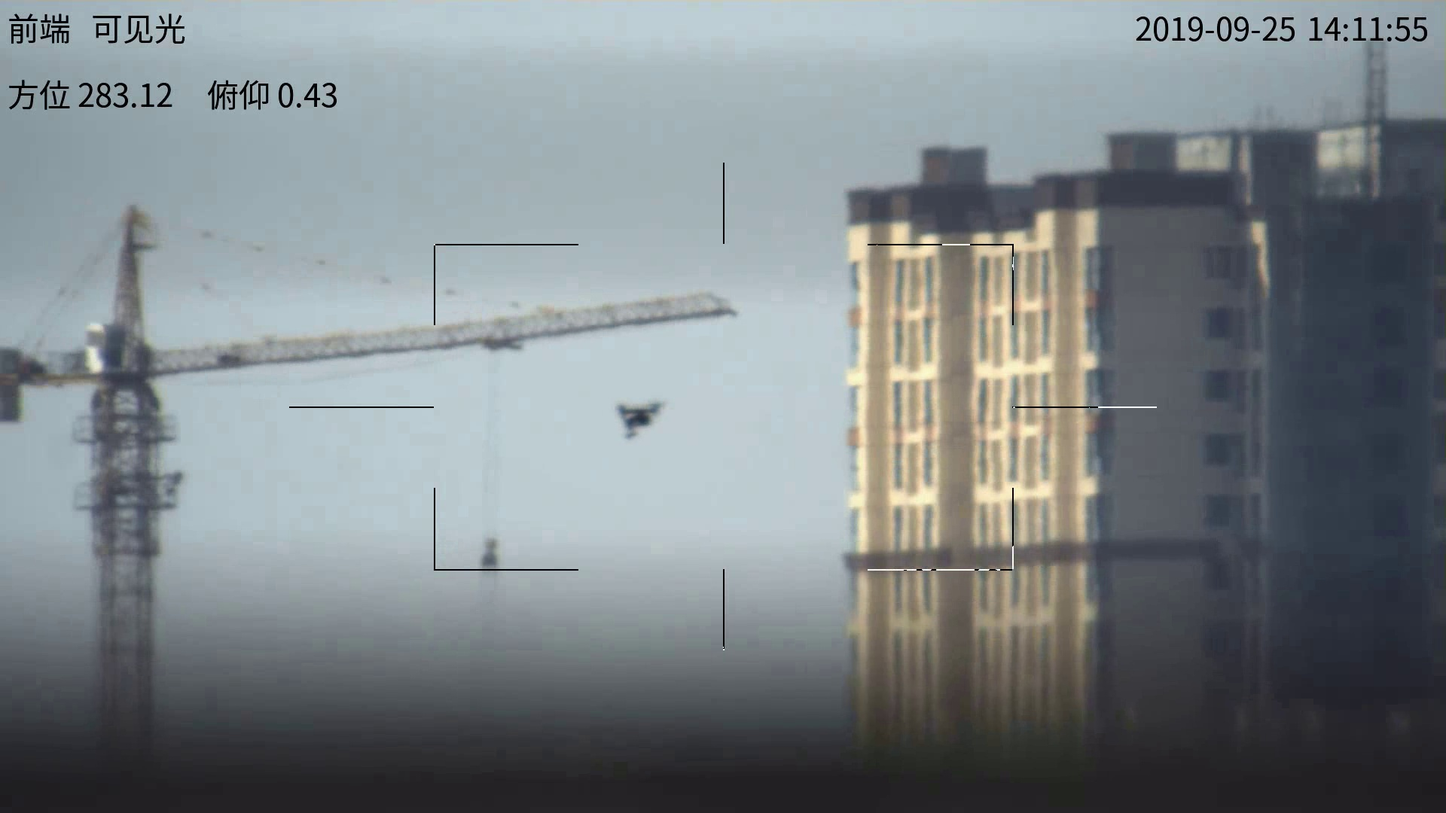drone_other: (610, 399, 677, 441)
